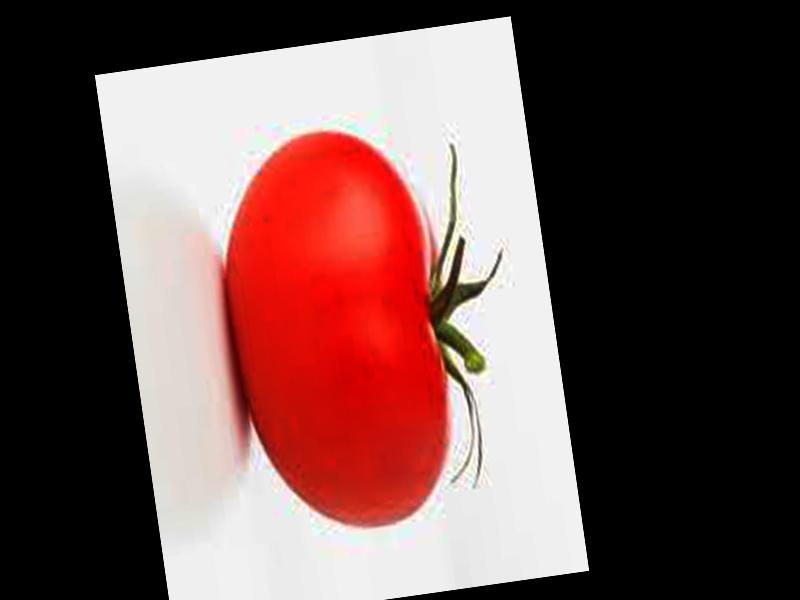Tomato: (206, 119, 465, 539)
